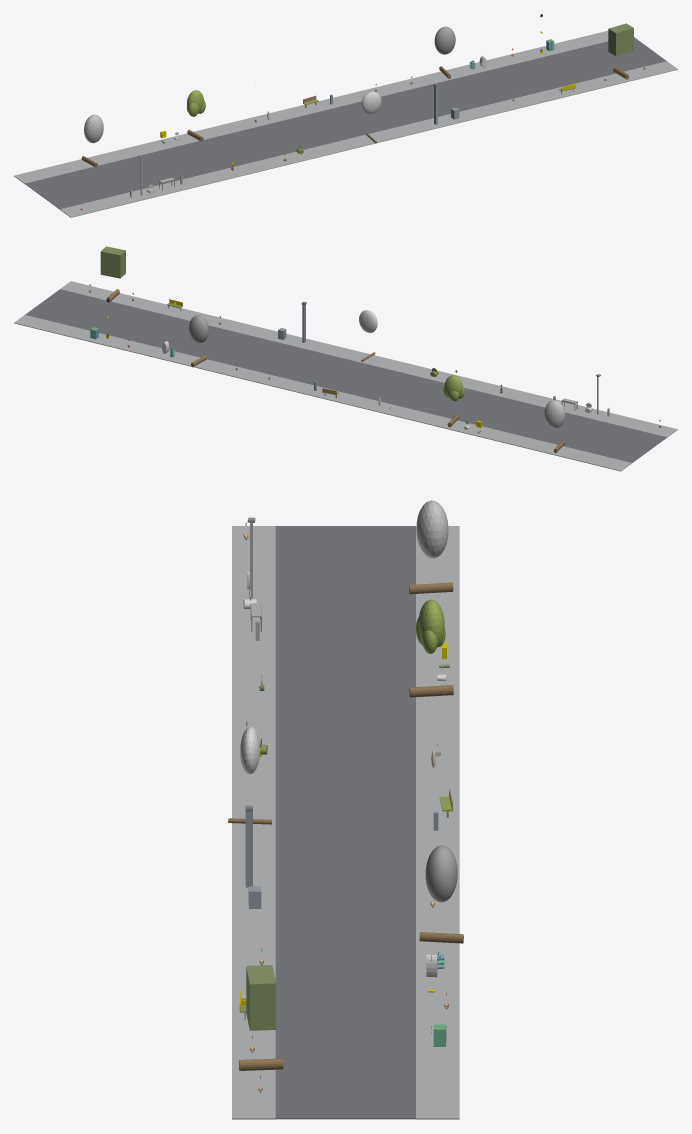
The picture shows the model from 3 angles, top to bottom: view 1: azimuth 30°, elevation 25°; view 2: azimuth 150°, elevation 25°; view 3: azimuth 270°, elevation 25°; orthographic projection. The views are drawn at different scales.
Parts seen in each view (by area): view 1: road_slab, sidewalk_left, sidewalk_right, inst_0016, inst_0012, inst_0015, inst_0013, inst_0014; view 2: road_slab, sidewalk_right, sidewalk_left, inst_0016, inst_0012, inst_0015, inst_0013, inst_0014; view 3: road_slab, sidewalk_left, sidewalk_right, inst_0016, inst_0012, inst_0015, inst_0013, inst_0014.
Part boxes in pixels (box(x1,y1,x2,y2)): road_slab: box(25, 37, 666, 209); sidewalk_left: box(60, 61, 677, 217); sidewalk_right: box(14, 30, 608, 183); inst_0016: box(608, 23, 633, 79); inst_0012: box(81, 114, 103, 167); inst_0015: box(434, 26, 455, 78); inst_0013: box(186, 90, 205, 141); inst_0014: box(361, 91, 381, 143); road_slab: box(25, 289, 666, 462); sidewalk_right: box(14, 315, 631, 471); sidewalk_left: box(60, 281, 677, 437); inst_0016: box(100, 246, 125, 302); inst_0012: box(544, 400, 565, 453); inst_0015: box(189, 315, 208, 367); inst_0013: box(443, 375, 464, 427); inst_0014: box(359, 310, 377, 361); road_slab: box(275, 526, 415, 1119); sidewalk_left: box(232, 526, 275, 1119); sidewalk_right: box(416, 526, 459, 1119); inst_0016: box(239, 965, 283, 1070); inst_0012: box(409, 500, 453, 594); inst_0015: box(419, 845, 463, 943); inst_0013: box(409, 599, 453, 697); inst_0014: box(228, 726, 271, 824).
Bounding box in the file's own units: 80 × 6.08 × 13.45.
